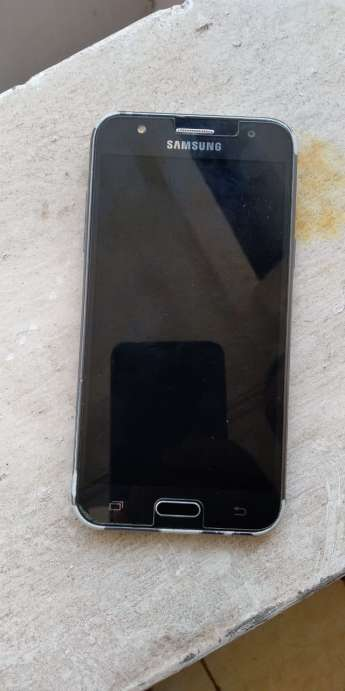Handphone: (57, 103, 301, 552)
